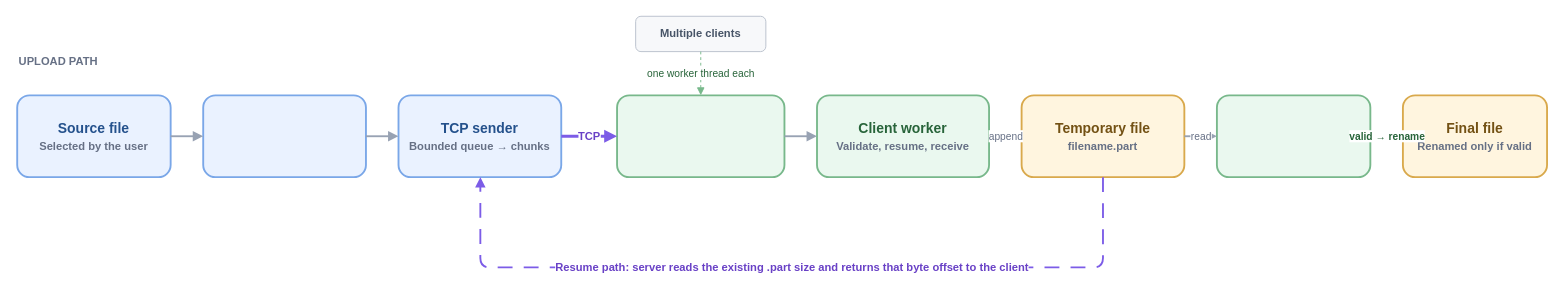
Image size: 1563x292. Some labels were removed from this diagram. The shapes that lost their labels are listed below. From the top down, each one's box as (x1, y1, x2, y2) in pixels, then its label:
(202, 94, 366, 178): Prepare Checksum + reader thread
(616, 94, 785, 178): TCP listener Port 9000 / accept loop
(1216, 94, 1371, 178): Verify Exact size + checksum
